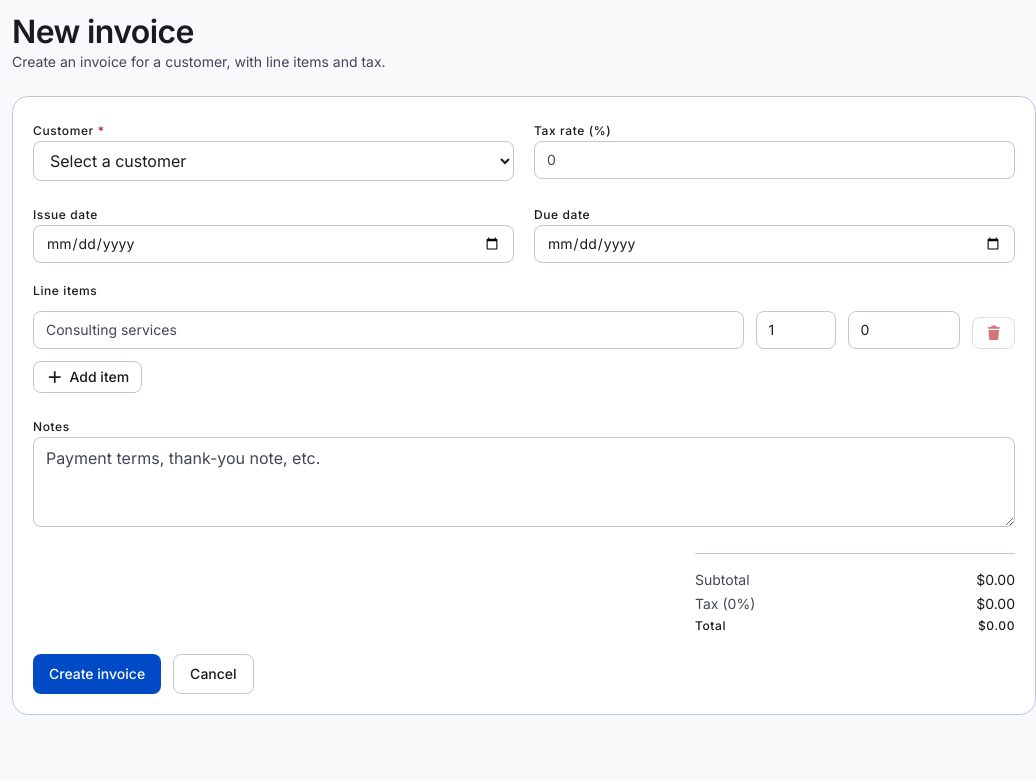
InvoiceForm — live totals › computes subtotal, tax and total from the line items
Type "Consulting" into the field named "Description".
click(388, 330); type("Consulting")  # box [33,311,744,349]
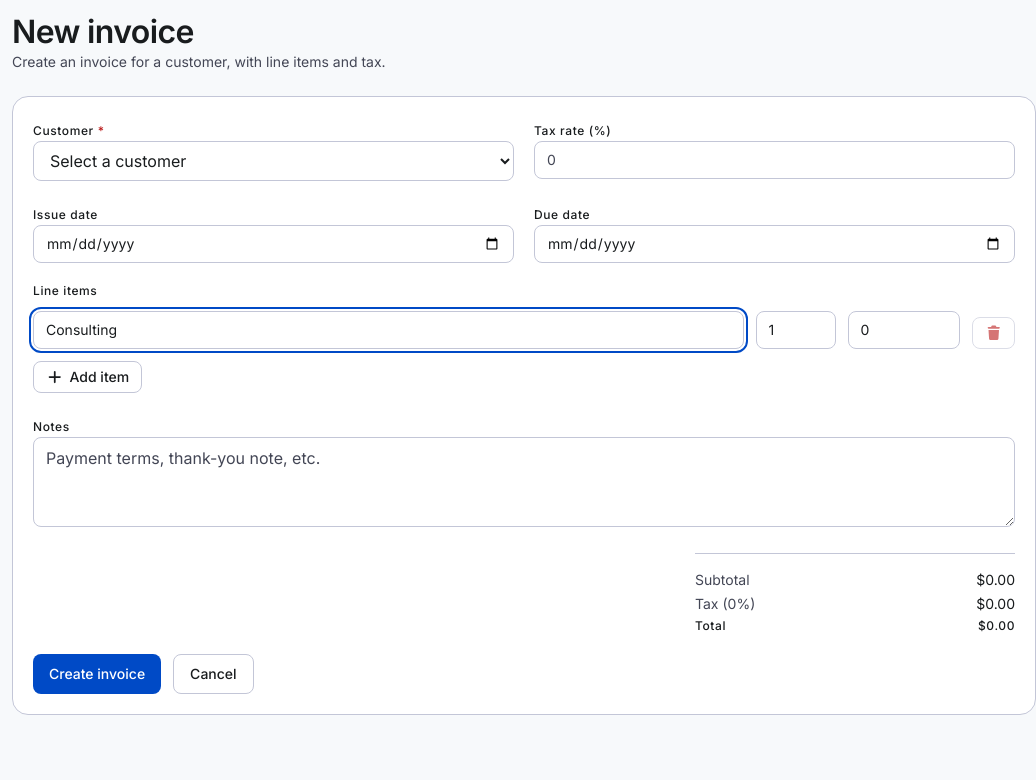
Type "2" into the 1st number field named "Qty".
click(796, 330); type("2")  # box [756,311,836,349]
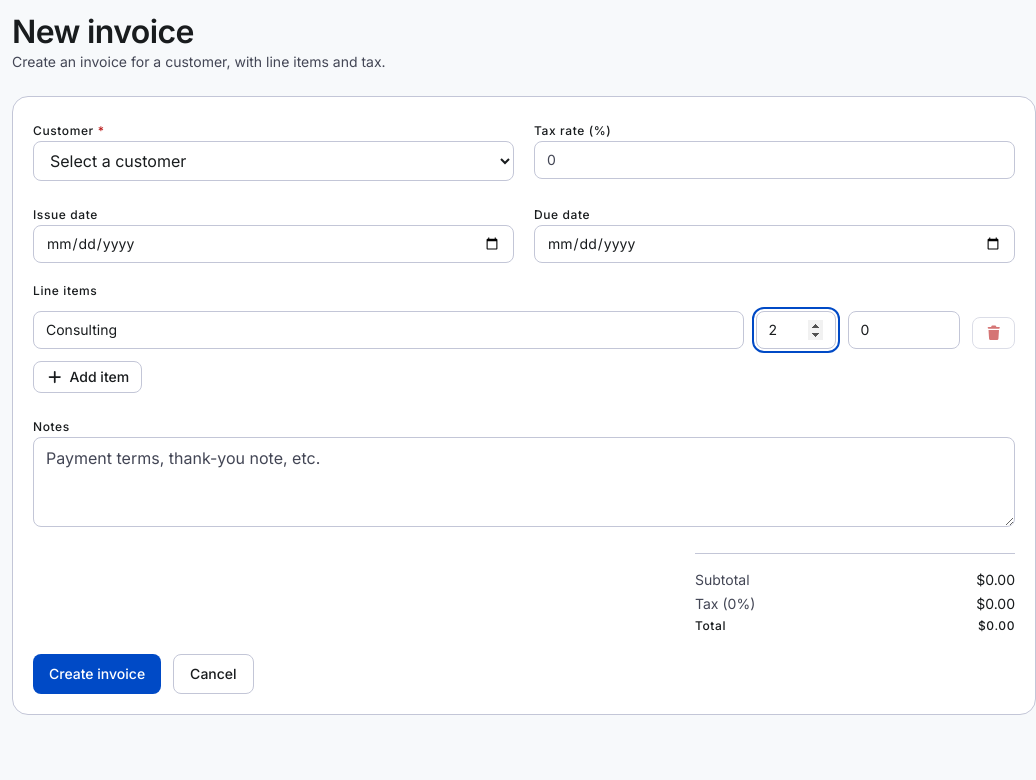
Replace the text in the 2nd number field named "Unit price" with "100" at (904, 330), box [848,311,960,349]
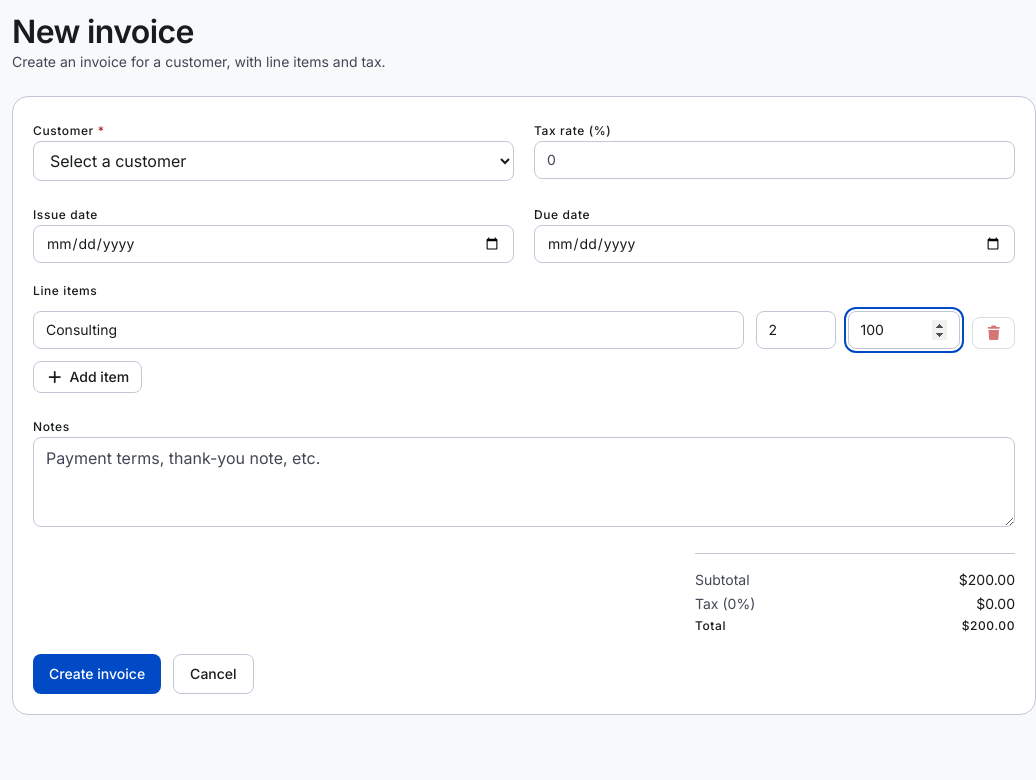
Type "10" into the number field labelled "Tax rate (%)".
click(774, 160); type("10")  # box [534,141,1015,179]
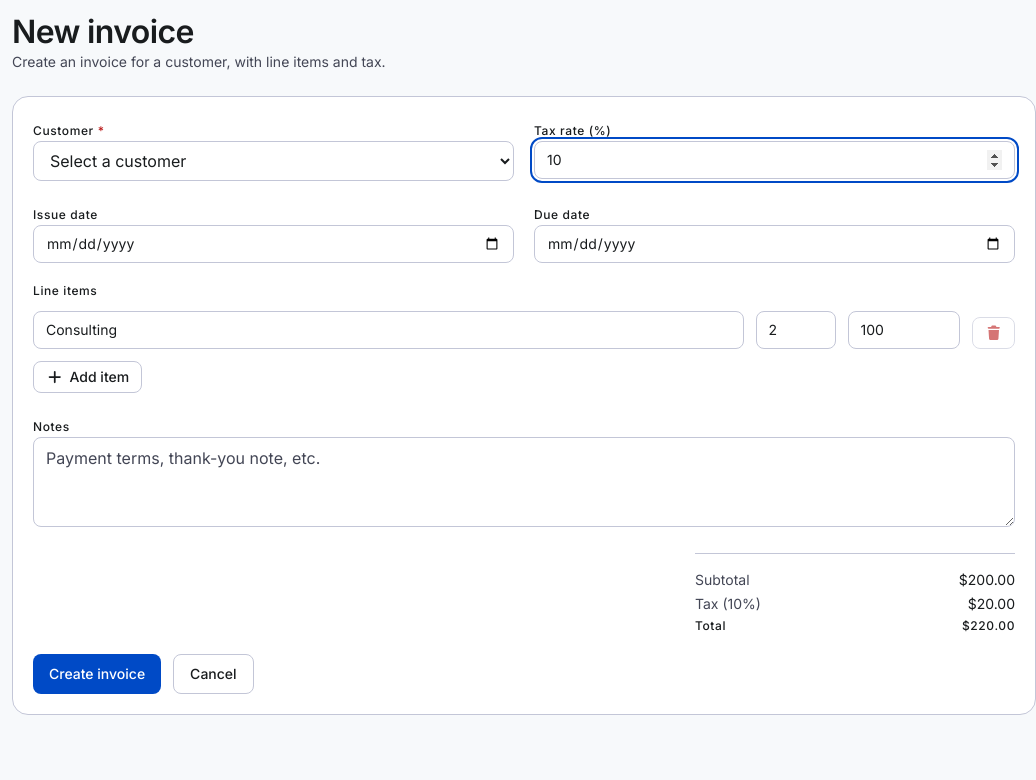
Check: the text "$200.00" is shown, box [959,570,1015,590]
Check: the text "$20.00" is shown, box [968,594,1015,614]
Check: the text "$220.00" is shown, box [962,618,1015,634]
